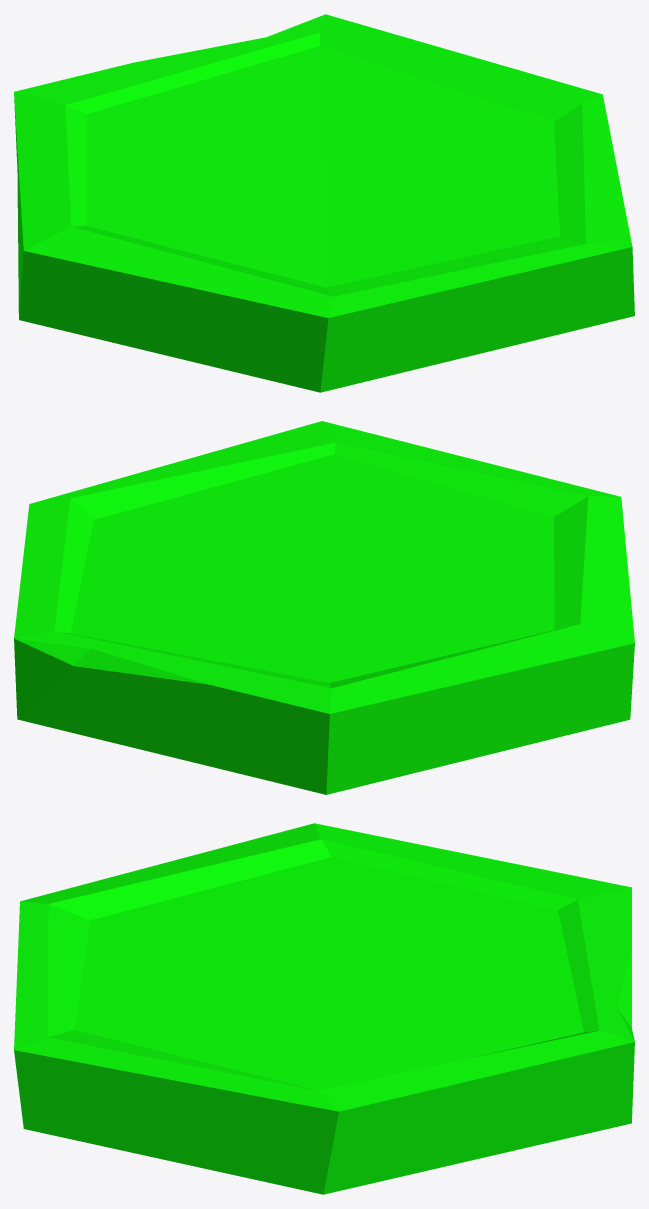
The model's file is SM_Coin_Silver_Fantasy.fbx.
The picture shows the model from 3 angles, top to bottom: view 1: azimuth 30°, elevation 25°; view 2: azimuth 150°, elevation 25°; view 3: azimuth 270°, elevation 25°; orthographic projection.
Parts seen in each view (by area): view 1: coin-silver-fantasy; view 2: coin-silver-fantasy; view 3: coin-silver-fantasy.
Boxes of the visible parts, x1,y1,x2,y2 form: coin-silver-fantasy: (14,14,634,392); coin-silver-fantasy: (14,421,634,794); coin-silver-fantasy: (14,823,634,1194).
Size of the model in its own units: 0.0467 by 0.00678 by 0.0416.
